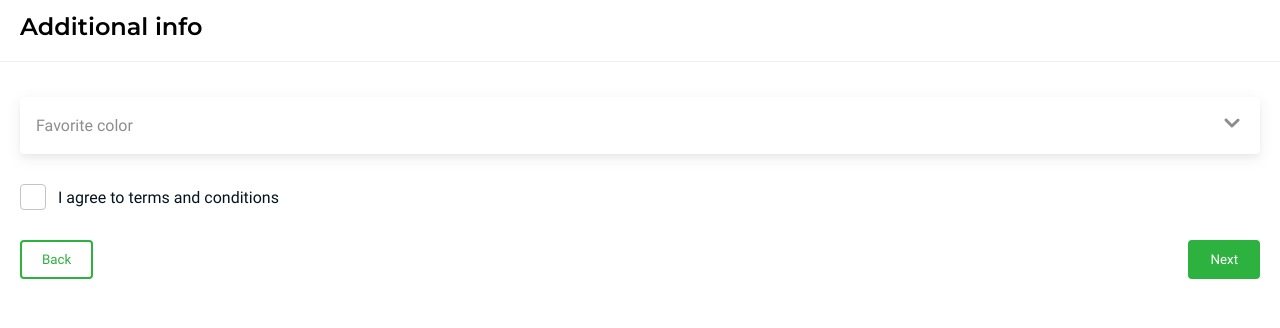
Additional info page › should show required error
This screenshot has width=1280, height=328.
What coordinates should you click on to do the following:
click the button "Next"
I would click on:
 (1224, 260)
Its box is [1188,240,1260,279].
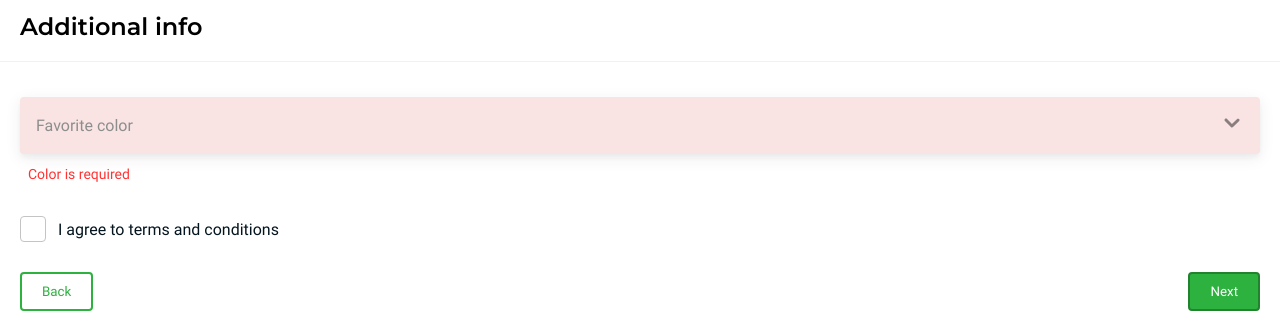
expect the text "Color is required" is shown: met, box [28,166,130,182]
